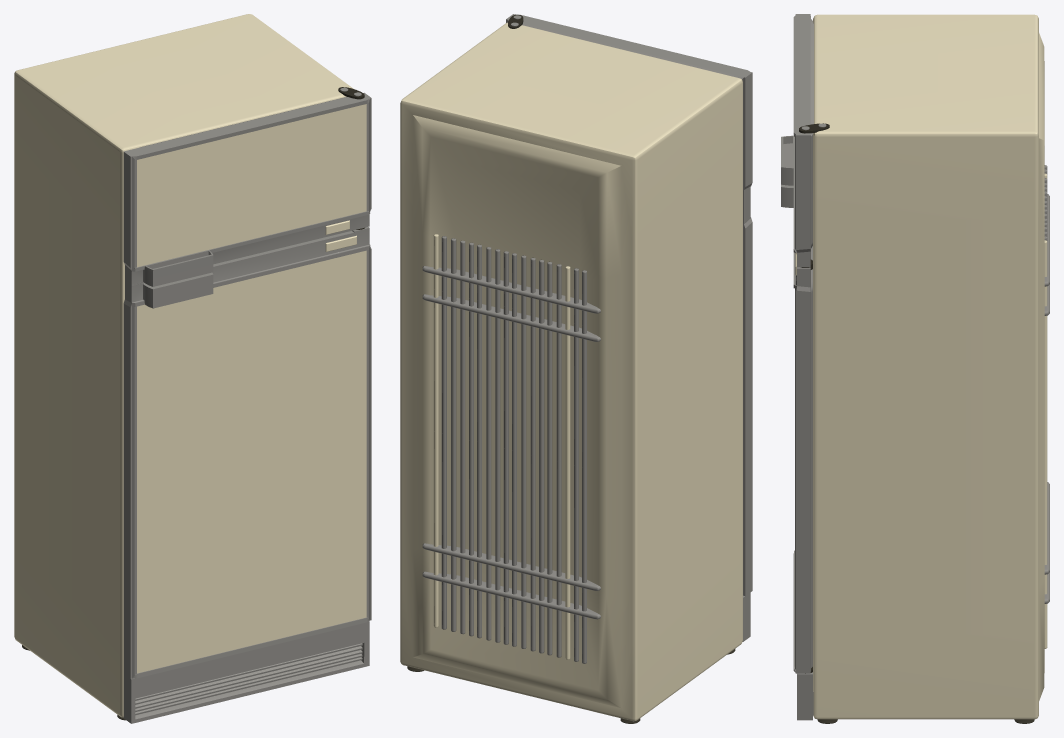
Rendered from fridge.fbx.
3 views of the same model, side by side, from view 1: azimuth 30°, elevation 25°; view 2: azimuth 150°, elevation 25°; view 3: azimuth 270°, elevation 25° (orthographic). The views are drawn at different scales.
Parts seen in each view (by area): view 1: pCube229; view 2: pCube229; view 3: pCube229.
Boxes of the visible parts, x1,y1,x2,y2 form: pCube229: [14, 14, 371, 723]; pCube229: [400, 14, 752, 723]; pCube229: [781, 14, 1049, 723].
Size of the model in its own units: 15.49 by 35.35 by 14.49.
Materials: 1 (1 with a texture image).
